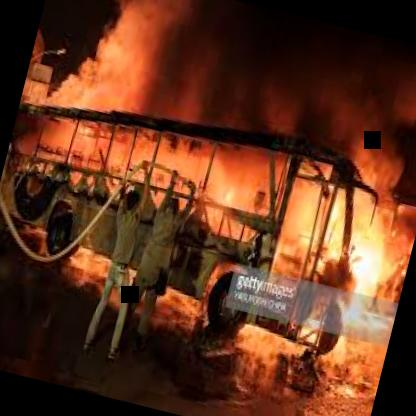fire: (0, 100, 387, 352)
